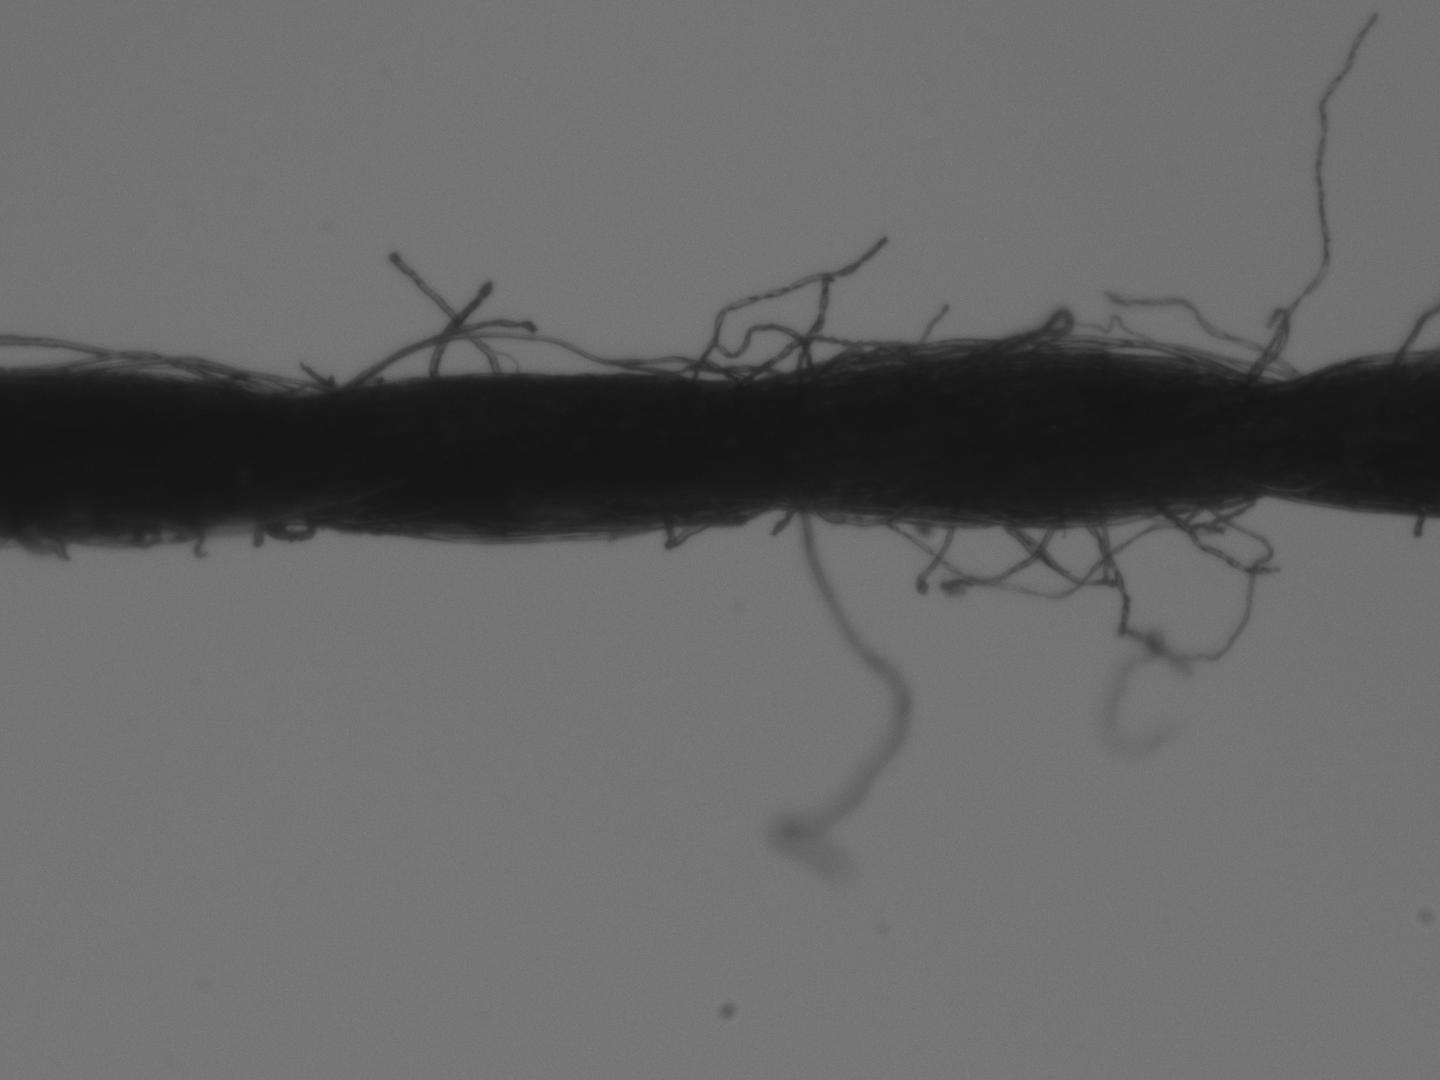loop_fiber: (357, 338, 765, 387), (958, 337, 1233, 372), (695, 322, 819, 383), (1002, 522, 1115, 587), (977, 305, 1077, 357), (94, 358, 248, 390), (1157, 495, 1246, 530), (209, 372, 305, 398), (812, 503, 897, 529), (255, 520, 313, 543), (661, 523, 709, 550), (271, 381, 324, 400)
protruding_fiber: (774, 515, 909, 881), (1247, 14, 1380, 379), (388, 251, 493, 374), (942, 528, 1048, 598), (431, 282, 492, 379), (917, 528, 946, 596)
